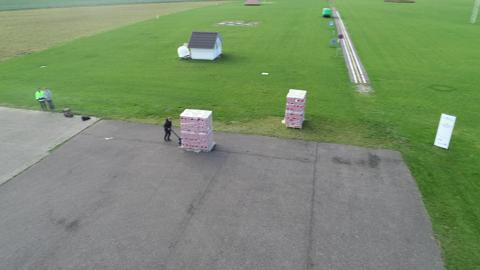RockwoolPallet: (178, 107, 217, 153)
